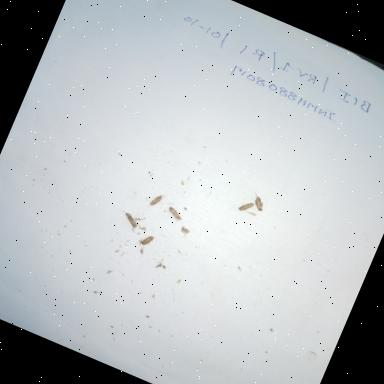pbw: (114, 205, 148, 235), (159, 201, 189, 230), (132, 229, 156, 253), (248, 192, 272, 216), (144, 188, 167, 212), (234, 193, 256, 216)
